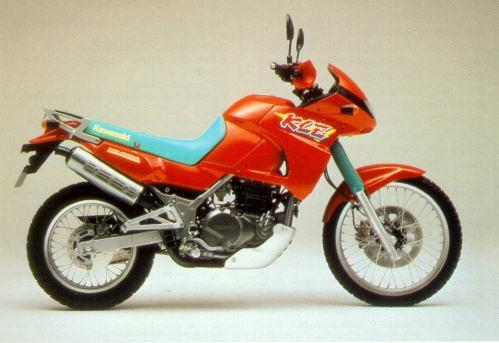motorcycle: (11, 6, 477, 321)
